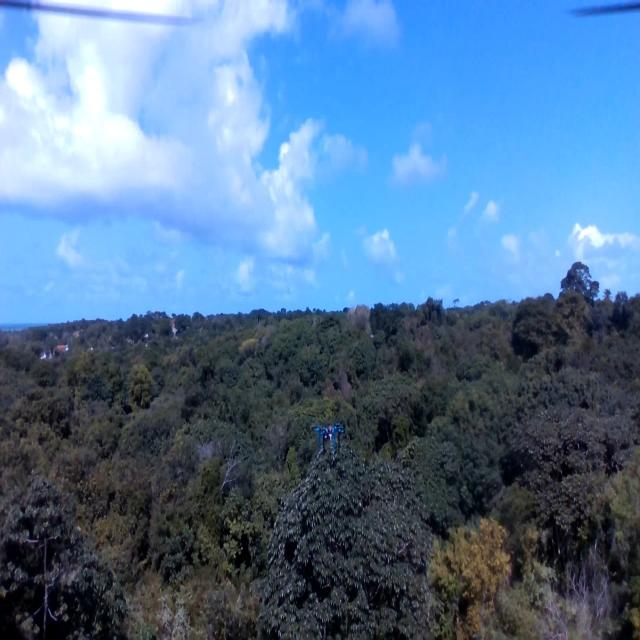-uav-: (314, 421, 345, 459)
